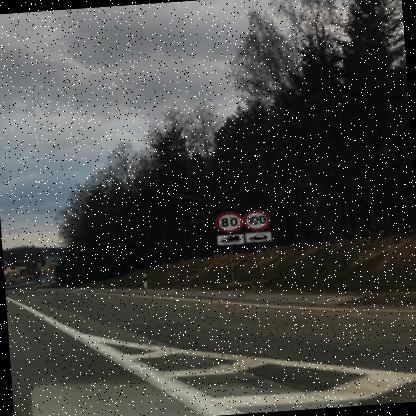speedlimit: (211, 210, 240, 232), (242, 207, 268, 229)
